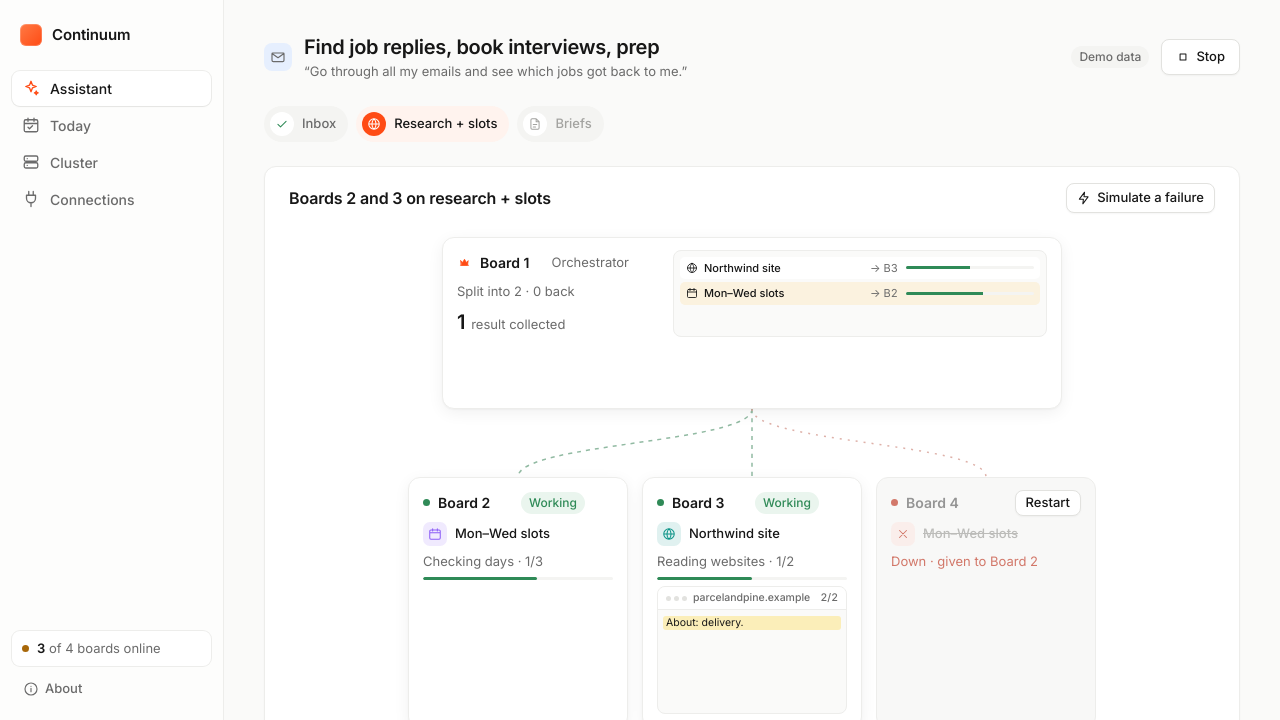
Assistant: report › still shows the report of a job followed to another page and back
The image size is (1280, 720).
What coordinates should you click on to do the following:
click the link "Cluster"
I would click on:
 (60, 162)
Its box is [22,153,98,171].
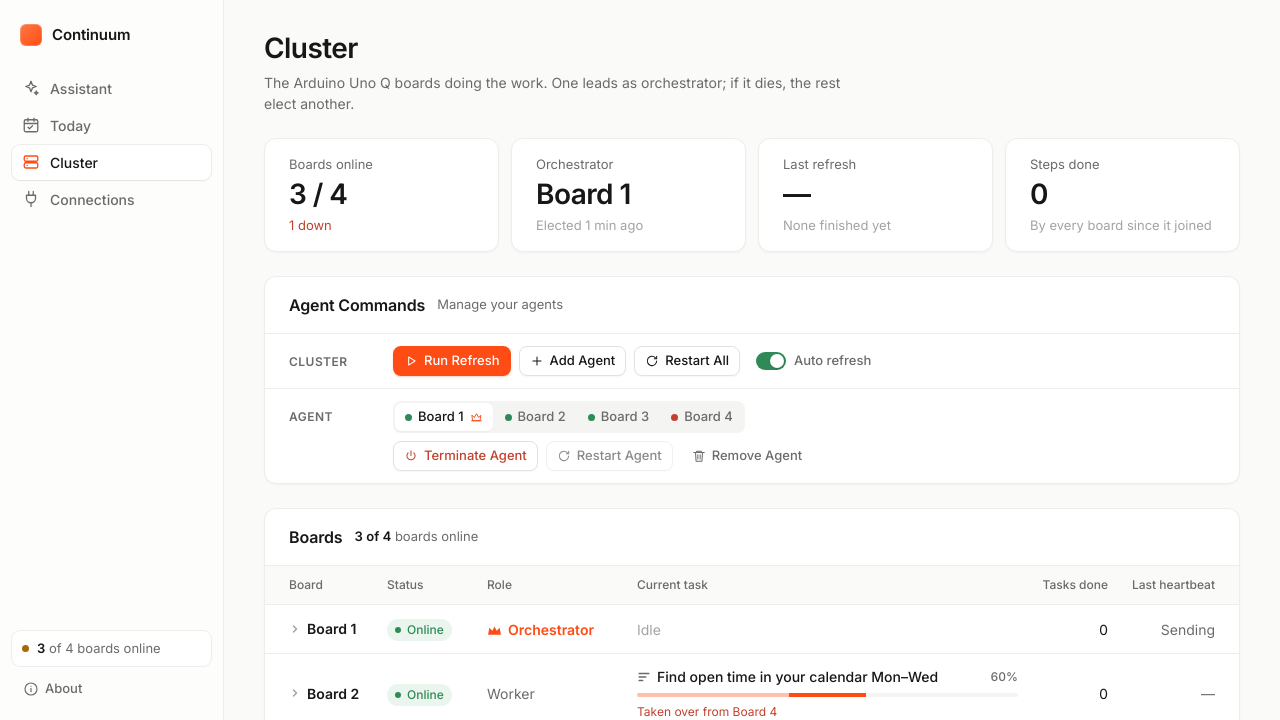
What coordinates should you click on to do the following:
click the link "Assistant"
I would click on:
 (67, 88)
Its box is [22,79,112,97].
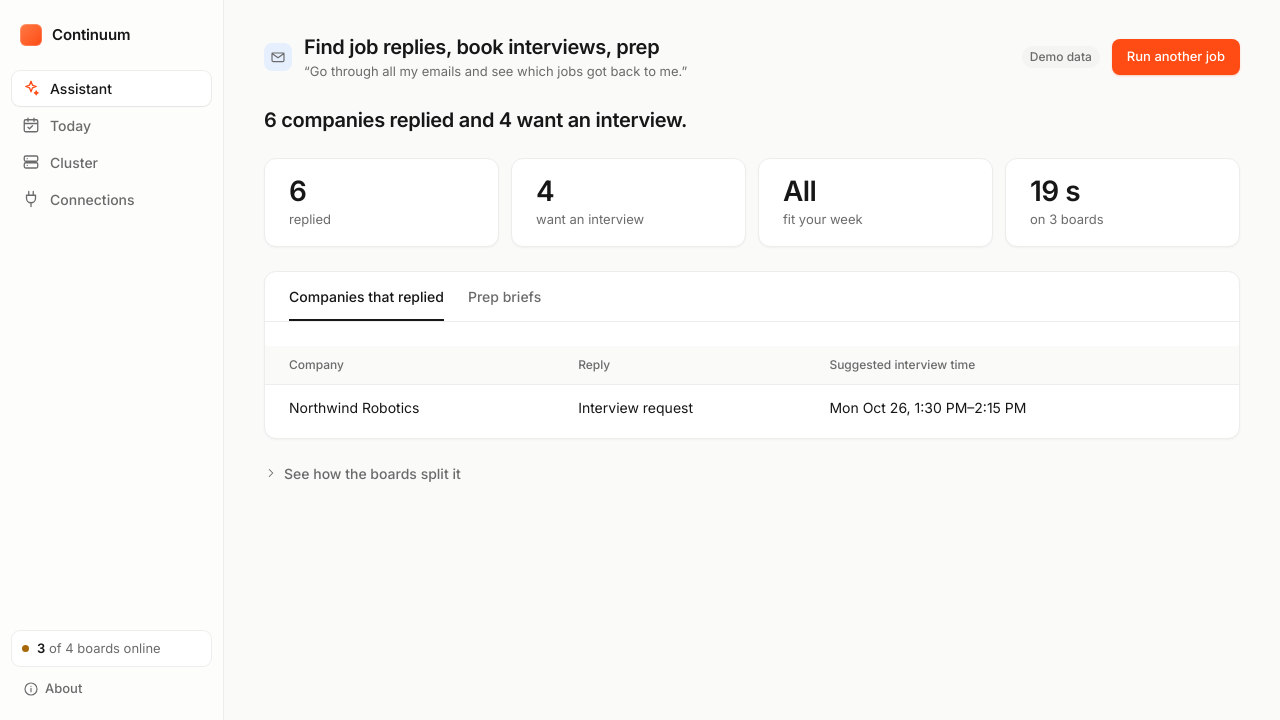
Check: the text "6 companies replied and 4 want an interview." is shown, box [264,108,687,132]
